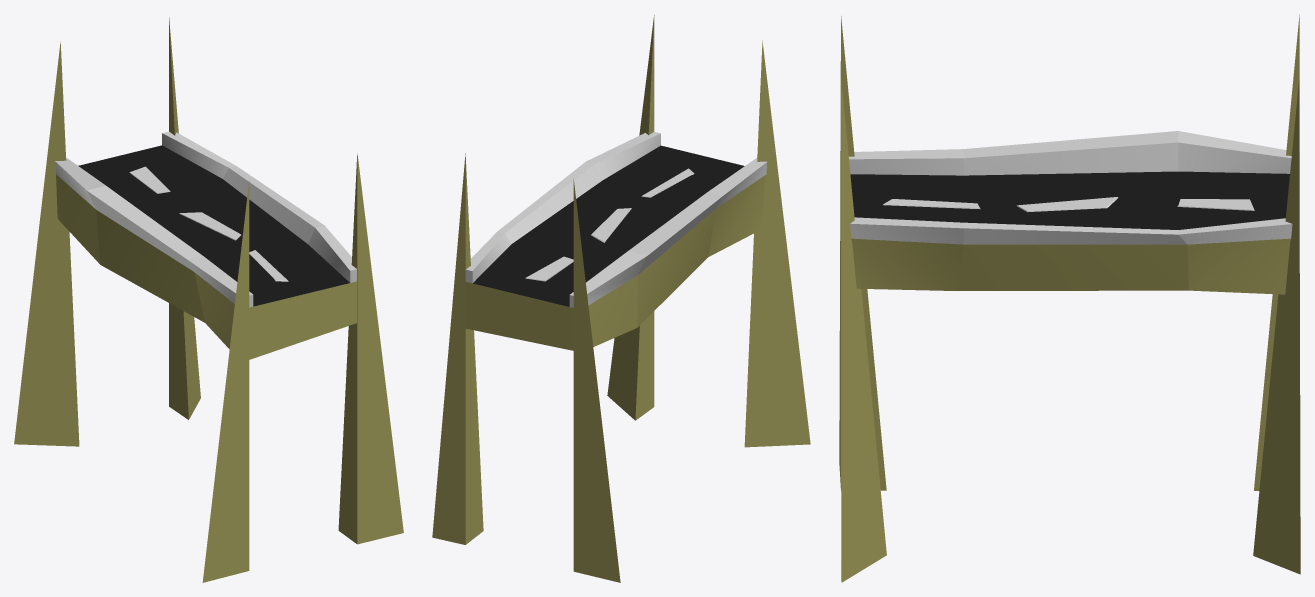
File: c_bridge_straight_aa.fbx
3 views of the same model, side by side, from view 1: azimuth 30°, elevation 25°; view 2: azimuth 150°, elevation 25°; view 3: azimuth 270°, elevation 25° (orthographic). The views are drawn at different scales.
Parts seen in each view (by area): view 1: c_bridge_straight_aa; view 2: c_bridge_straight_aa; view 3: c_bridge_straight_aa.
Part boxes in pixels (bbox=[...]): c_bridge_straight_aa: bbox=[14, 17, 403, 582]; c_bridge_straight_aa: bbox=[432, 15, 810, 582]; c_bridge_straight_aa: bbox=[839, 14, 1300, 582].
Bounding box in the file's own units: 6.2 × 11.51 × 10.09.
